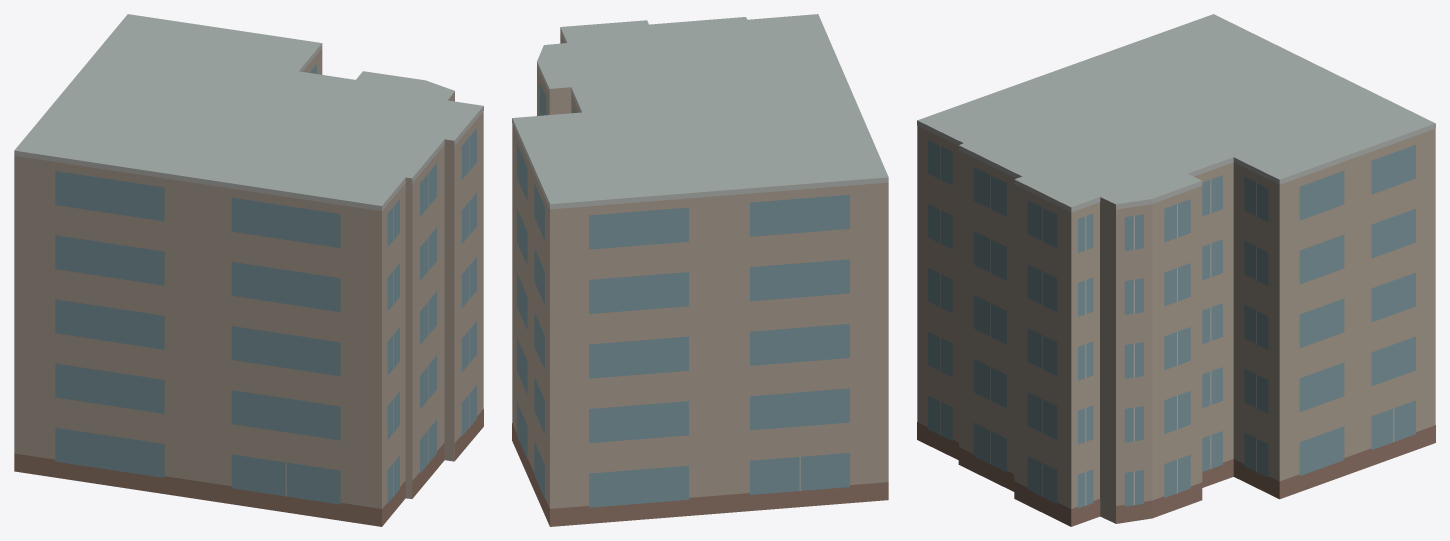
File: survey-upis-32679552.glb
The picture shows the model from 3 angles, left to right: view 1: azimuth 30°, elevation 25°; view 2: azimuth 150°, elevation 25°; view 3: azimuth 270°, elevation 25°; orthographic projection.
Visible parts, largest first — view 1: survey-upis-32679552.tmp; view 2: survey-upis-32679552.tmp; view 3: survey-upis-32679552.tmp.
Boxes of the visible parts, x1,y1,x2,y2 form: survey-upis-32679552.tmp: (14,14,483,526); survey-upis-32679552.tmp: (512,14,888,526); survey-upis-32679552.tmp: (917,14,1435,526).
Size of the model in its own units: 19.74 by 15.2 by 22.37.
